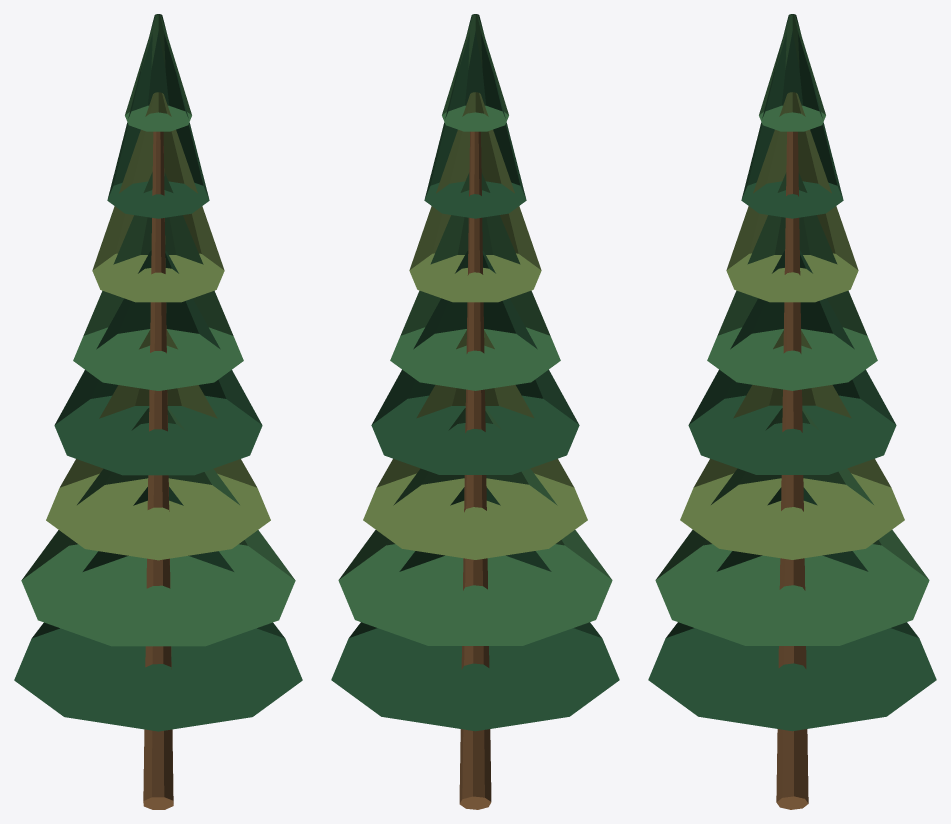
The model's file is vegetation-pine-02-tall.glb.
3 renders of one model, left to right at view 1: azimuth 30°, elevation 25°; view 2: azimuth 150°, elevation 25°; view 3: azimuth 270°, elevation 25°, orthographic.
Parts seen in each view (by area): view 1: vegetation-pine-02-tall; view 2: vegetation-pine-02-tall; view 3: vegetation-pine-02-tall.
Boxes of the visible parts, x1,y1,x2,y2 form: vegetation-pine-02-tall: (14,14,302,809); vegetation-pine-02-tall: (331,14,619,809); vegetation-pine-02-tall: (648,14,936,809).
Size of the model in its own units: 2.04 by 6.2 by 2.06.
